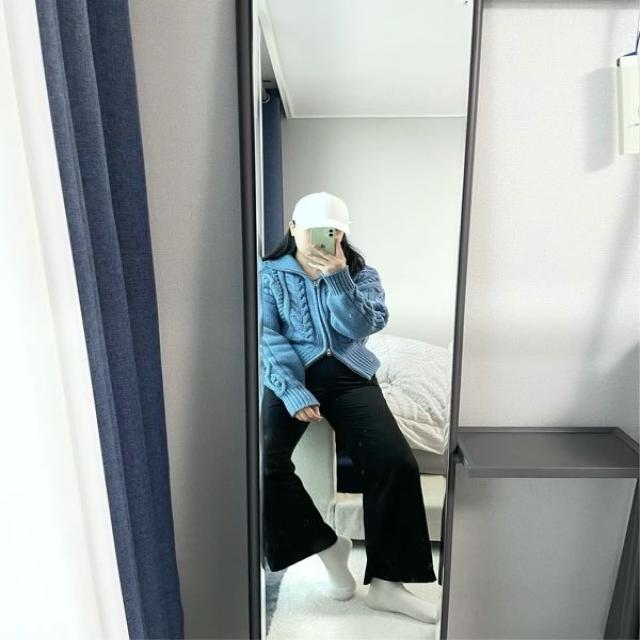cardigan: (260, 246, 389, 413)
slacks: (266, 348, 438, 587)
